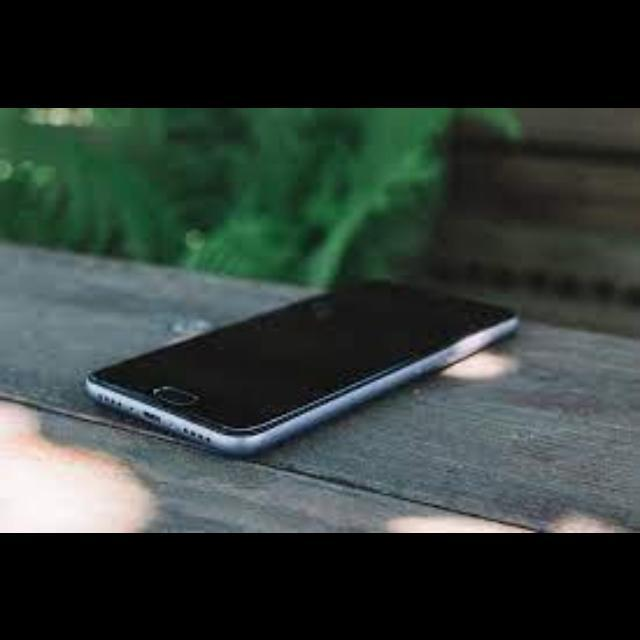PhoneUse: (84, 277, 516, 453)
